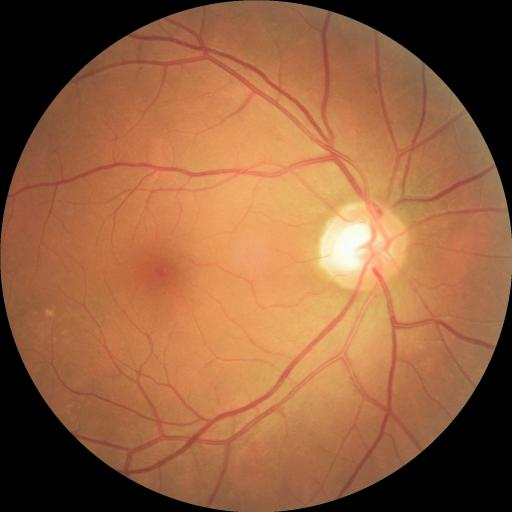Optic Cup: (337, 224, 379, 269)
Optic Disc: (320, 203, 406, 290)
